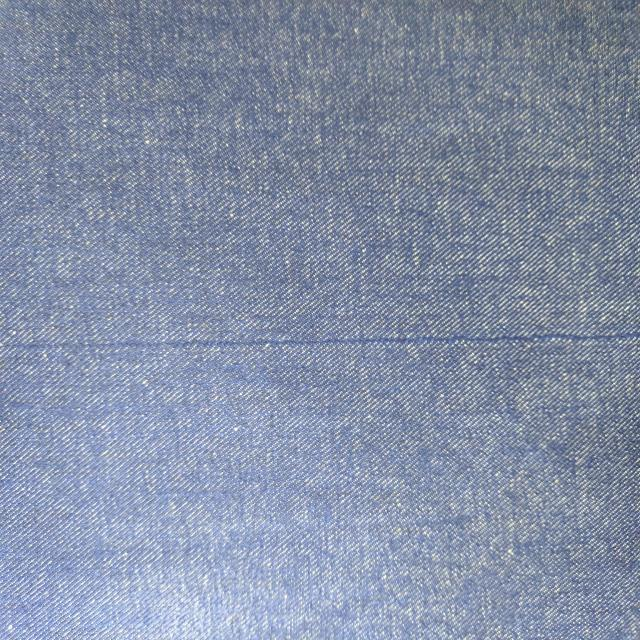Line: (0, 330, 639, 349)
